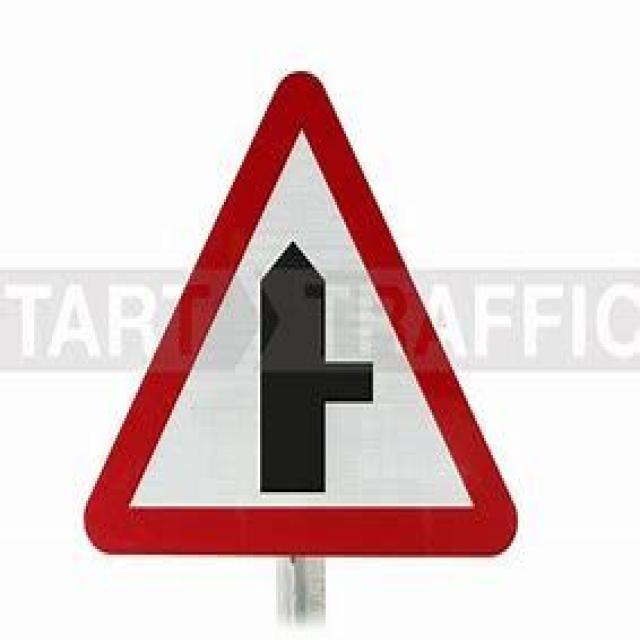side road right: (88, 68, 516, 567)
